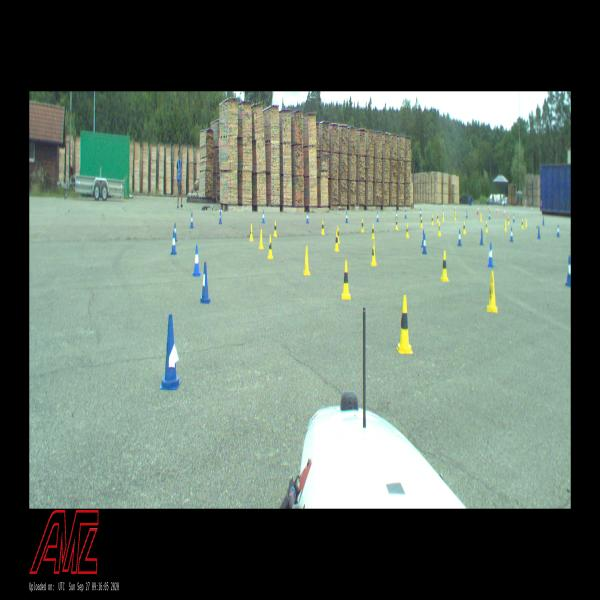blue_cone: (160, 315, 181, 390), (201, 262, 211, 304), (193, 245, 200, 276), (566, 258, 571, 286), (171, 232, 177, 255), (488, 243, 493, 266), (479, 228, 484, 246), (458, 229, 462, 246), (423, 235, 426, 254), (421, 228, 424, 247), (190, 214, 194, 228), (537, 225, 541, 239), (261, 209, 265, 222), (556, 224, 560, 236), (306, 210, 309, 224), (510, 227, 513, 241), (219, 210, 222, 224), (376, 210, 379, 222), (345, 211, 348, 223), (175, 224, 177, 241), (542, 216, 545, 226), (465, 210, 468, 218), (513, 212, 514, 222), (489, 210, 490, 220)
orange_cone: (504, 209, 505, 216), (497, 208, 498, 214)
yellow_cone: (397, 296, 413, 354), (486, 270, 497, 313), (341, 261, 351, 299), (441, 251, 450, 281), (303, 245, 310, 275), (371, 241, 376, 266), (268, 235, 273, 259), (259, 228, 264, 249), (335, 231, 339, 252), (250, 224, 254, 241), (371, 224, 375, 240), (321, 220, 325, 235), (337, 226, 340, 244), (405, 224, 409, 237), (462, 222, 466, 235), (274, 221, 277, 237), (484, 221, 488, 232), (438, 222, 441, 236), (361, 219, 364, 232), (521, 219, 524, 230), (395, 218, 398, 229), (420, 217, 423, 228), (504, 222, 507, 232), (432, 215, 434, 225), (437, 213, 439, 223), (480, 212, 482, 222), (442, 212, 444, 222), (508, 215, 510, 224), (525, 219, 527, 228), (454, 211, 456, 220)
